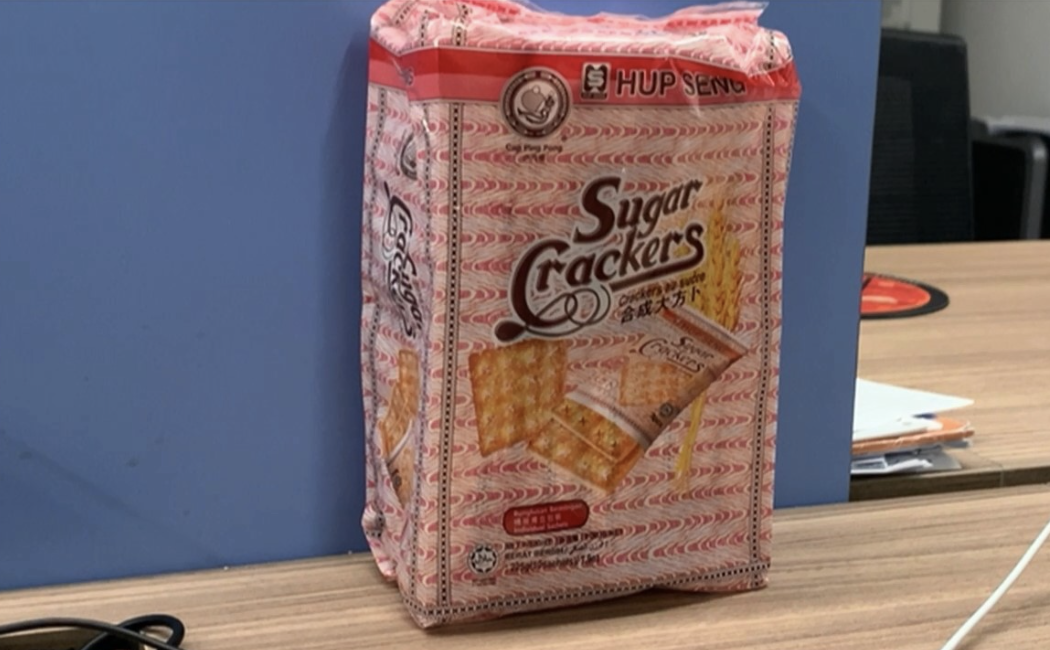crackers_200g-299g: (458, 53, 752, 584)
